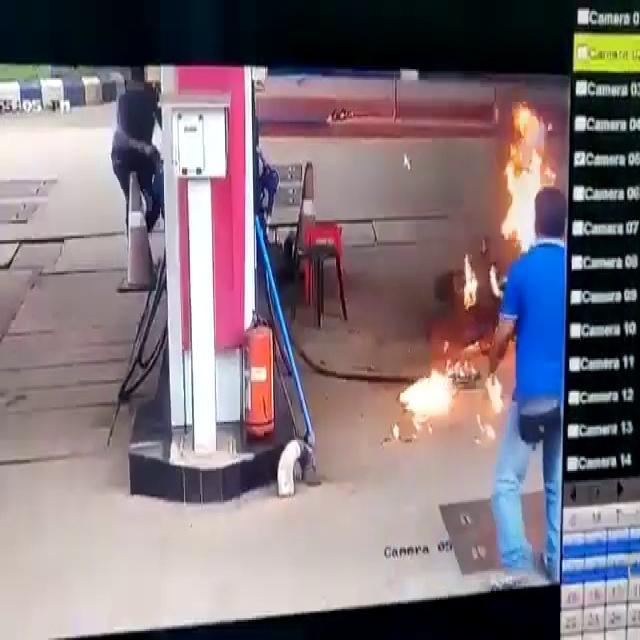Fire: (494, 98, 556, 252), (396, 354, 458, 428), (460, 252, 480, 314)
